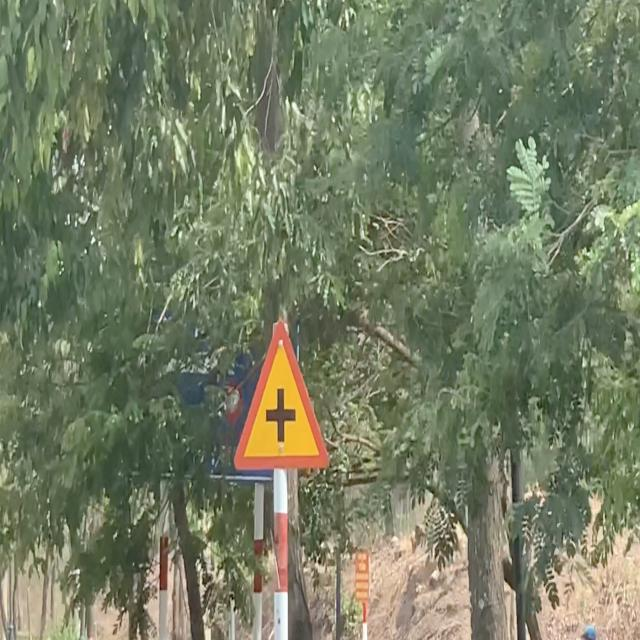Duong giao nhau: (227, 304, 334, 481)
